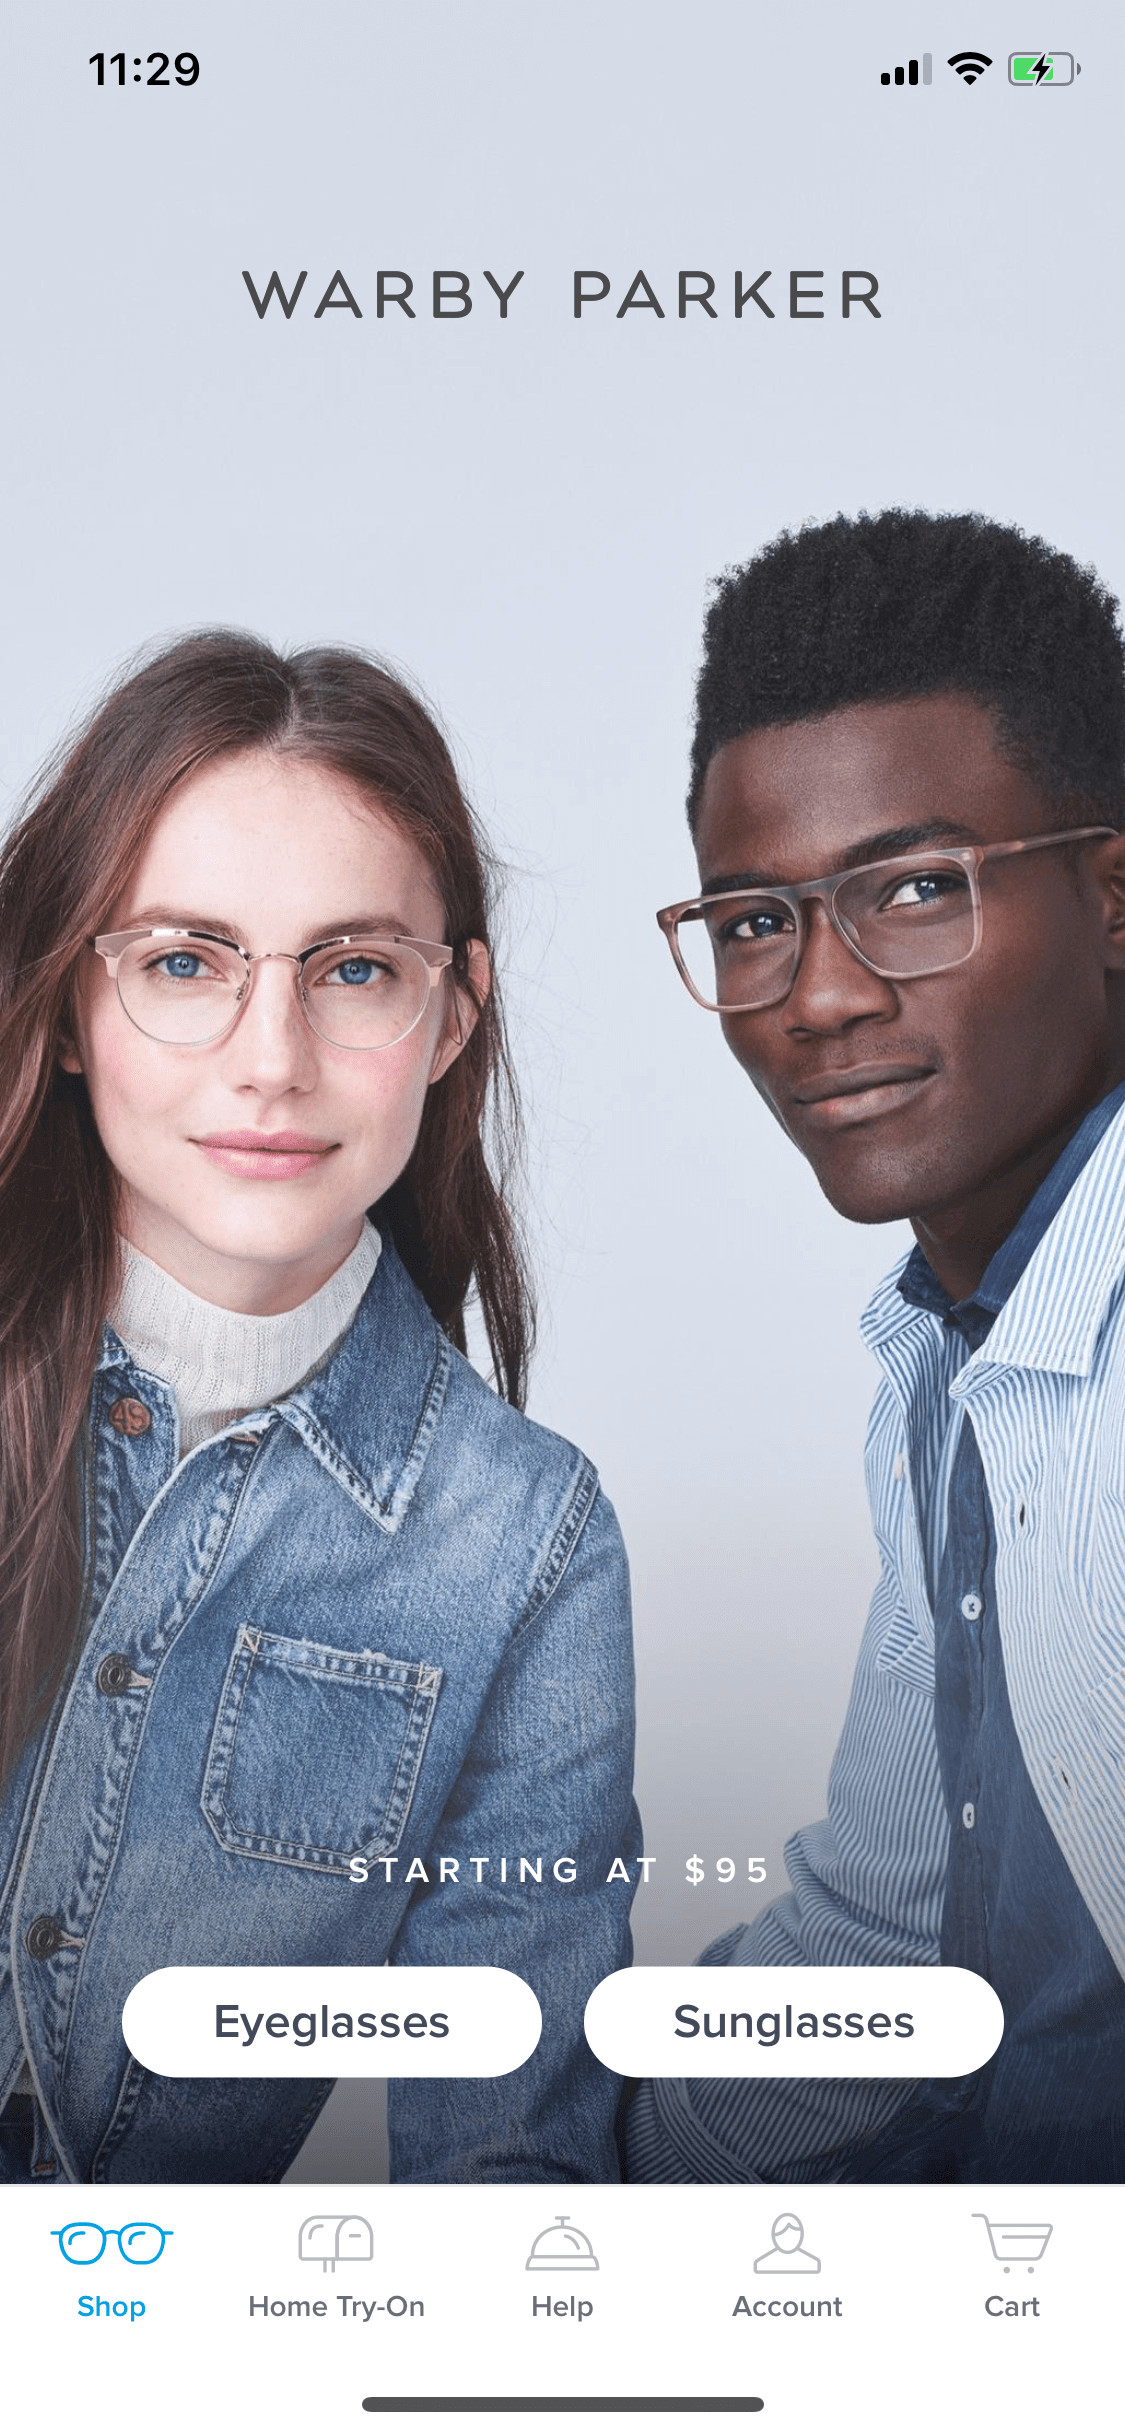Buttons: (110, 1961, 555, 2086), (580, 1961, 1018, 2086)
